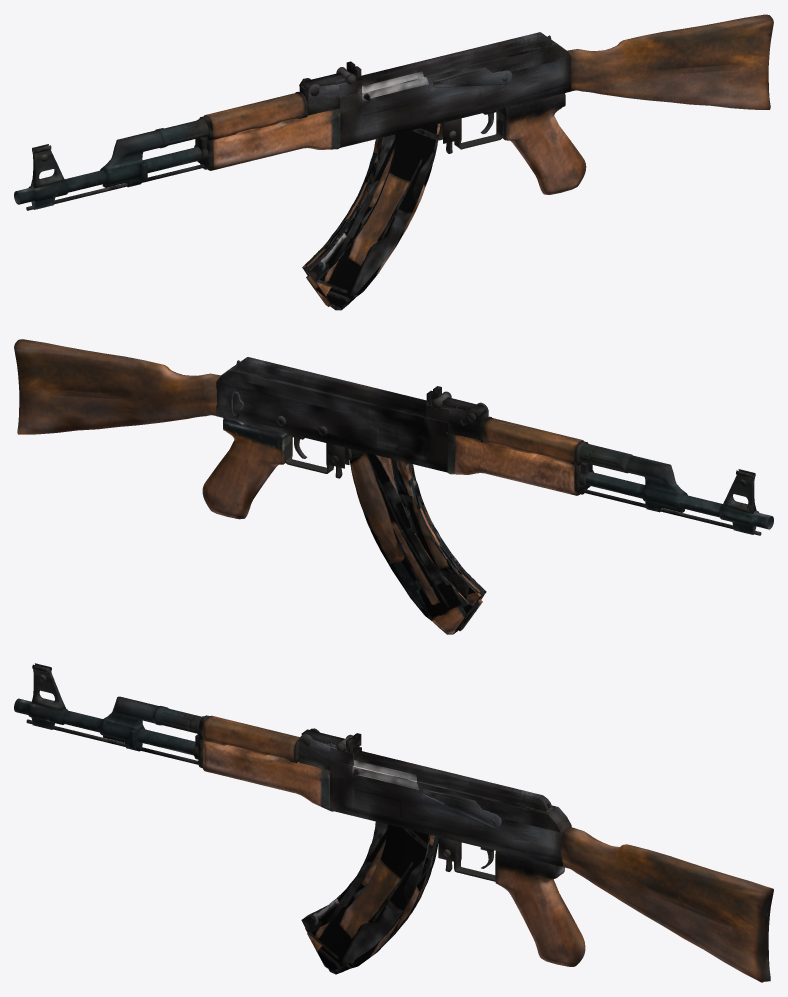
3 views of the same model, one above another, from view 1: azimuth 30°, elevation 25°; view 2: azimuth 150°, elevation 25°; view 3: azimuth 330°, elevation 25° (orthographic).
Visible parts, largest first — view 1: Ak-47; view 2: Ak-47; view 3: Ak-47.
Boxes of the visible parts, left/top/right/bottom form: Ak-47: left=14, top=14, right=773, bottom=310; Ak-47: left=14, top=339, right=773, bottom=634; Ak-47: left=14, top=663, right=773, bottom=982.
Size of the model in its own units: 390 by 118 by 13.19.
1 material, 1 textured.
